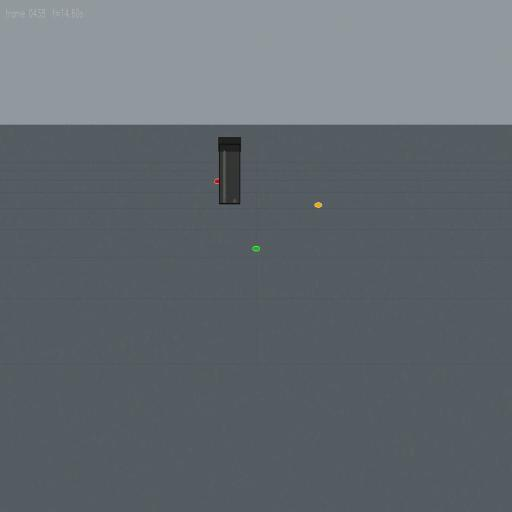bin: (218, 136, 241, 205)
